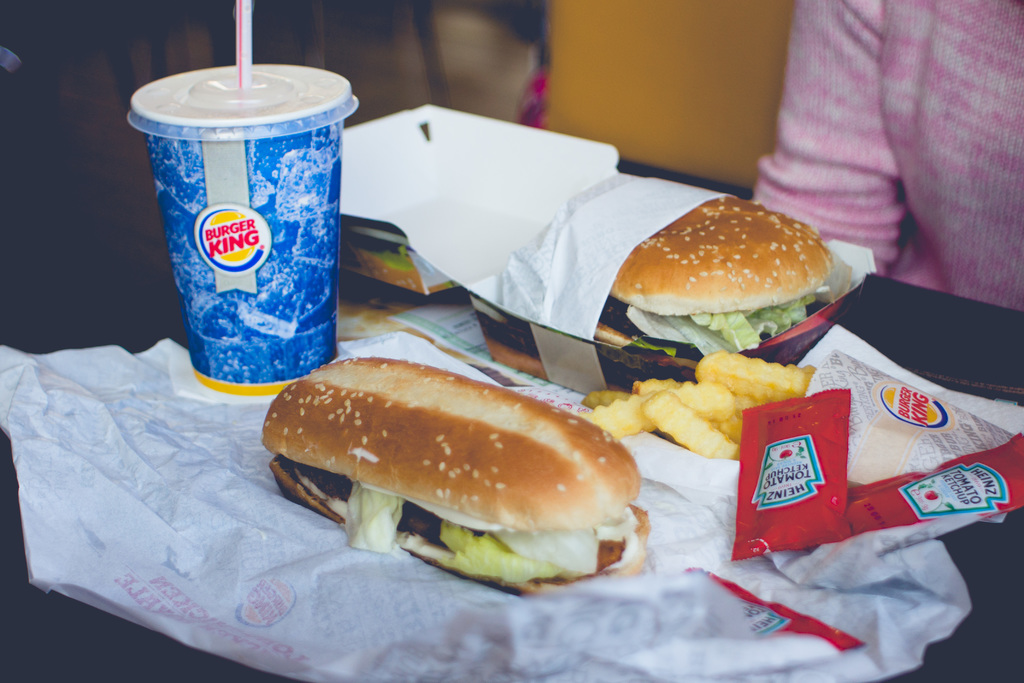Hamburger: (261, 355, 647, 594), (590, 196, 835, 355)
